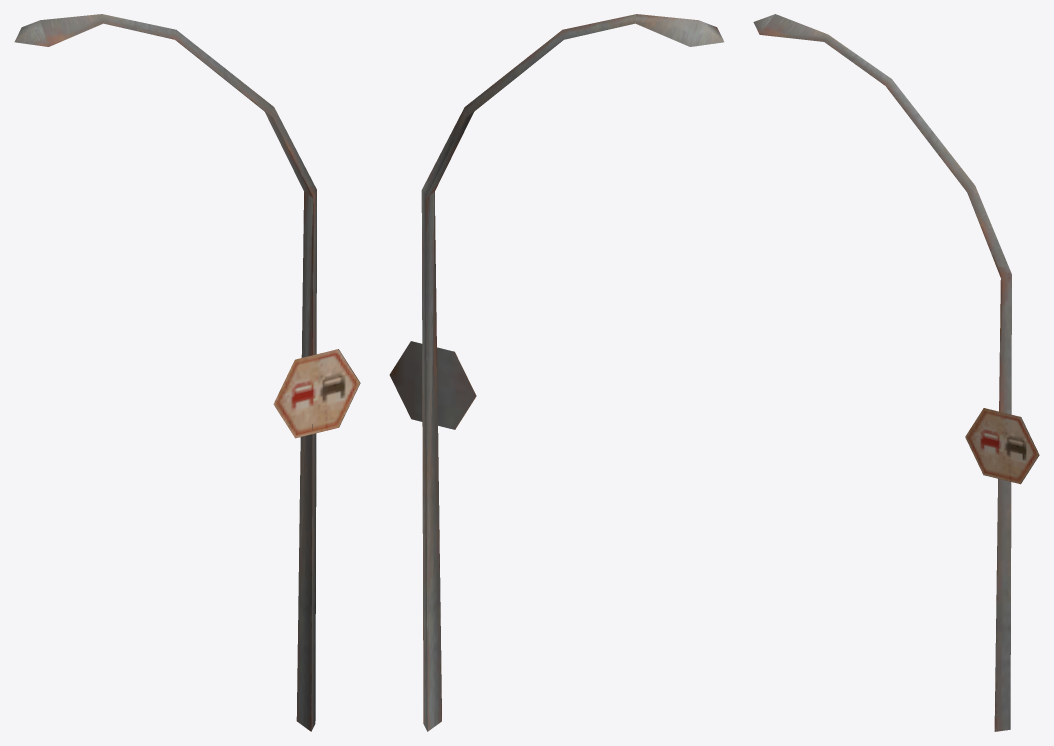
The model's file is Environment - Vegetation - Street Light 04 - PMLitPol02.glb.
3 renders of one model, left to right at view 1: azimuth 30°, elevation 25°; view 2: azimuth 150°, elevation 25°; view 3: azimuth 330°, elevation 25°, orthographic. The views are drawn at different scales.
Visible parts, largest first — view 1: PMLITPOL02; view 2: PMLITPOL02; view 3: PMLITPOL02.
Part boxes in pixels (x1,y1,x2,y2): PMLITPOL02: (14,14,360,731); PMLITPOL02: (389,14,723,731); PMLITPOL02: (753,14,1039,731).
Size of the model in its own units: 23.96 by 51.82 by 3.29.
1 material, 1 textured.
